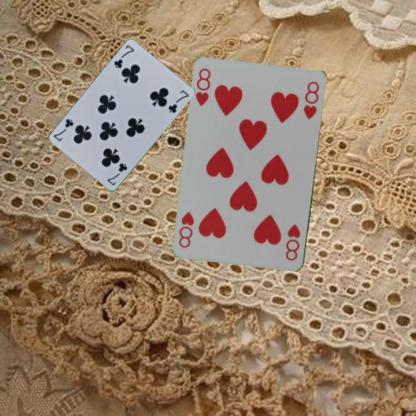7c: (111, 43, 136, 70), (105, 160, 128, 186)
8h: (283, 221, 302, 262), (193, 66, 212, 107)
